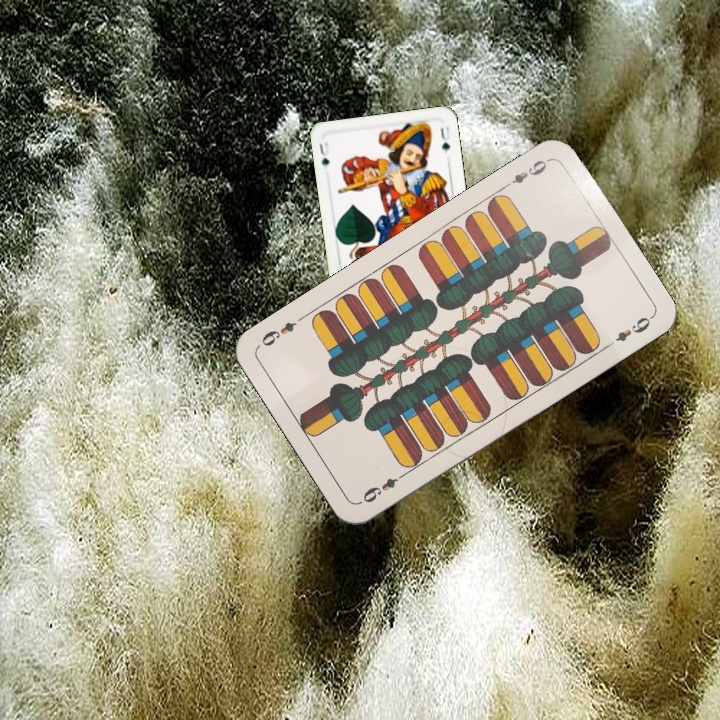E9: (356, 468, 409, 506), (499, 154, 553, 191)
GU: (315, 138, 332, 169)
